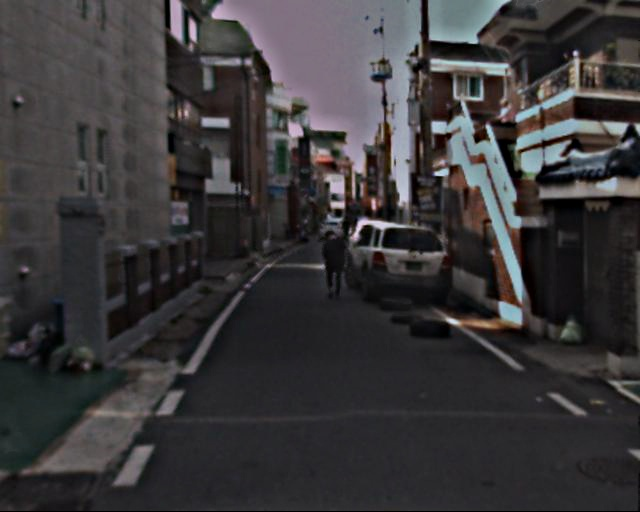person: (319, 229, 348, 300)
